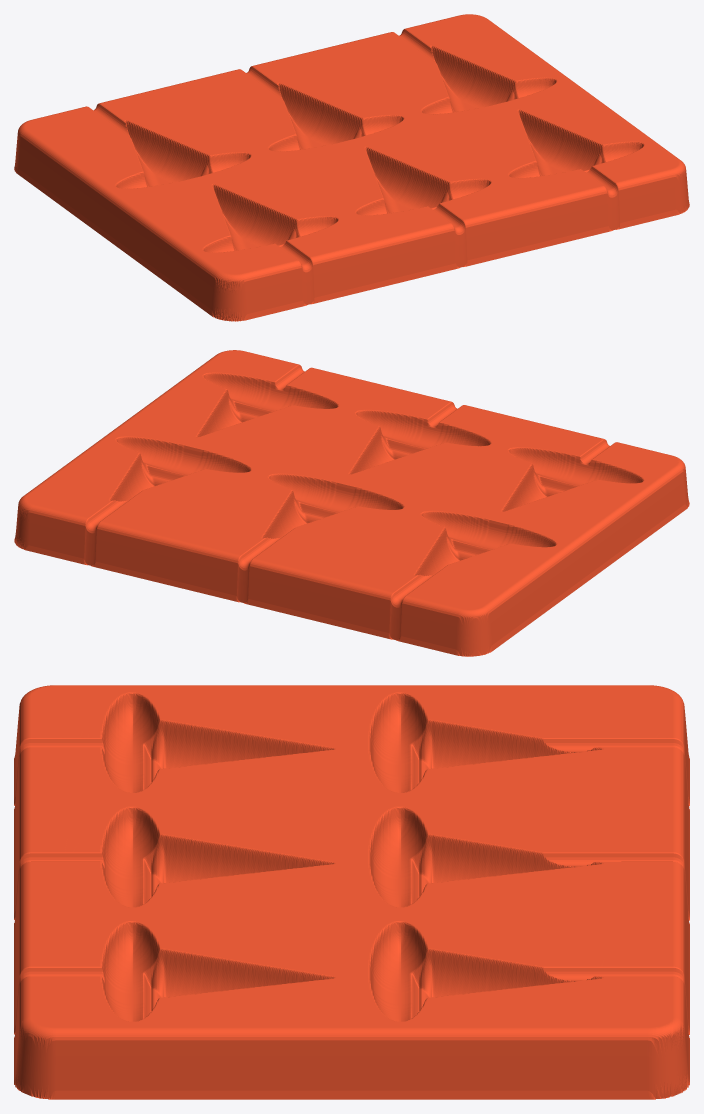
File: mold.glb
3 views of the same model, one above another, from view 1: azimuth 30°, elevation 25°; view 2: azimuth 150°, elevation 25°; view 3: azimuth 270°, elevation 25° (orthographic). The views are drawn at different scales.
Visible parts, largest first — view 1: geometry_0; view 2: geometry_0; view 3: geometry_0.
Boxes of the visible parts, <box> form: geometry_0: <box>14,14,689,321</box>; geometry_0: <box>14,350,689,656</box>; geometry_0: <box>14,685,689,1099</box>.
Bounding box in the file's own units: 0.1824 × 0.0155 × 0.1465.
